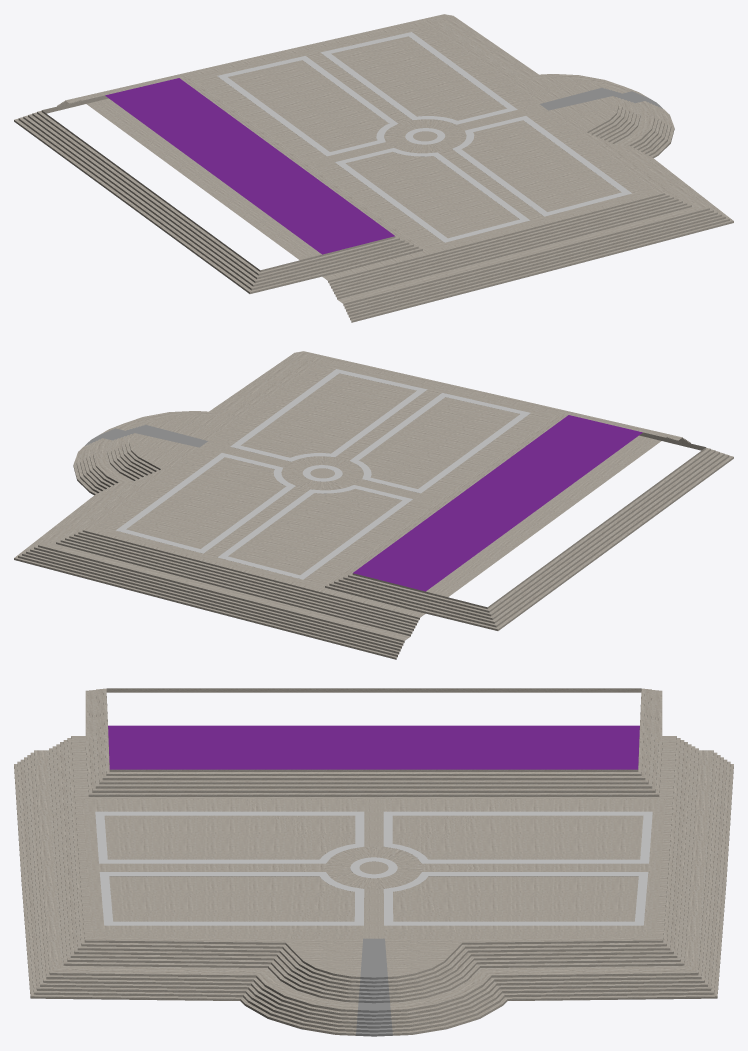
File: Stair.FBX
The picture shows the model from 3 angles, top to bottom: view 1: azimuth 30°, elevation 25°; view 2: azimuth 150°, elevation 25°; view 3: azimuth 270°, elevation 25°; orthographic projection. The views are drawn at different scales.
Visible parts, largest first — view 1: asd79; view 2: asd79; view 3: asd79.
Boxes of the visible parts, left/top/right/bottom form: asd79: left=14, top=14, right=733, bottom=322; asd79: left=14, top=351, right=733, bottom=659; asd79: left=14, top=688, right=733, bottom=1036.
Size of the model in its own units: 8121 by 559 by 7886.
